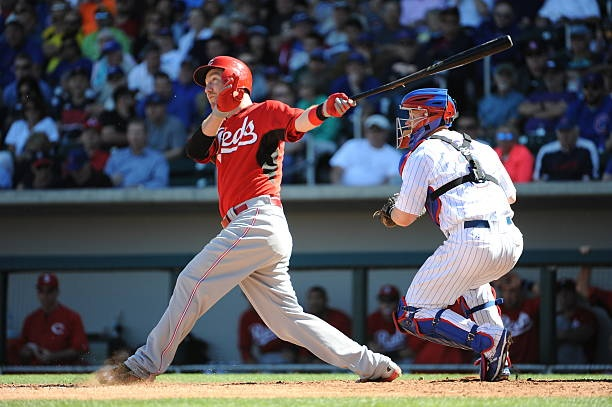bita: (337, 36, 516, 106)
